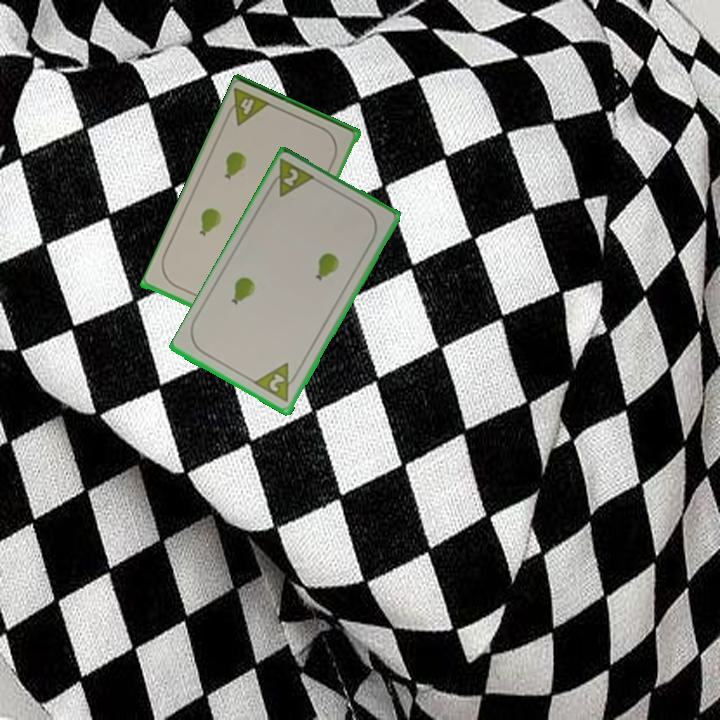2p: (264, 156, 319, 201), (252, 360, 303, 406)
4p: (221, 84, 275, 129)
